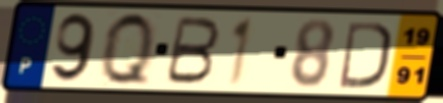1: (227, 15, 260, 89)
8: (289, 18, 337, 90)
9: (49, 11, 100, 84)
B: (162, 14, 223, 86)
D: (337, 19, 393, 90)
Q: (99, 9, 156, 90)
